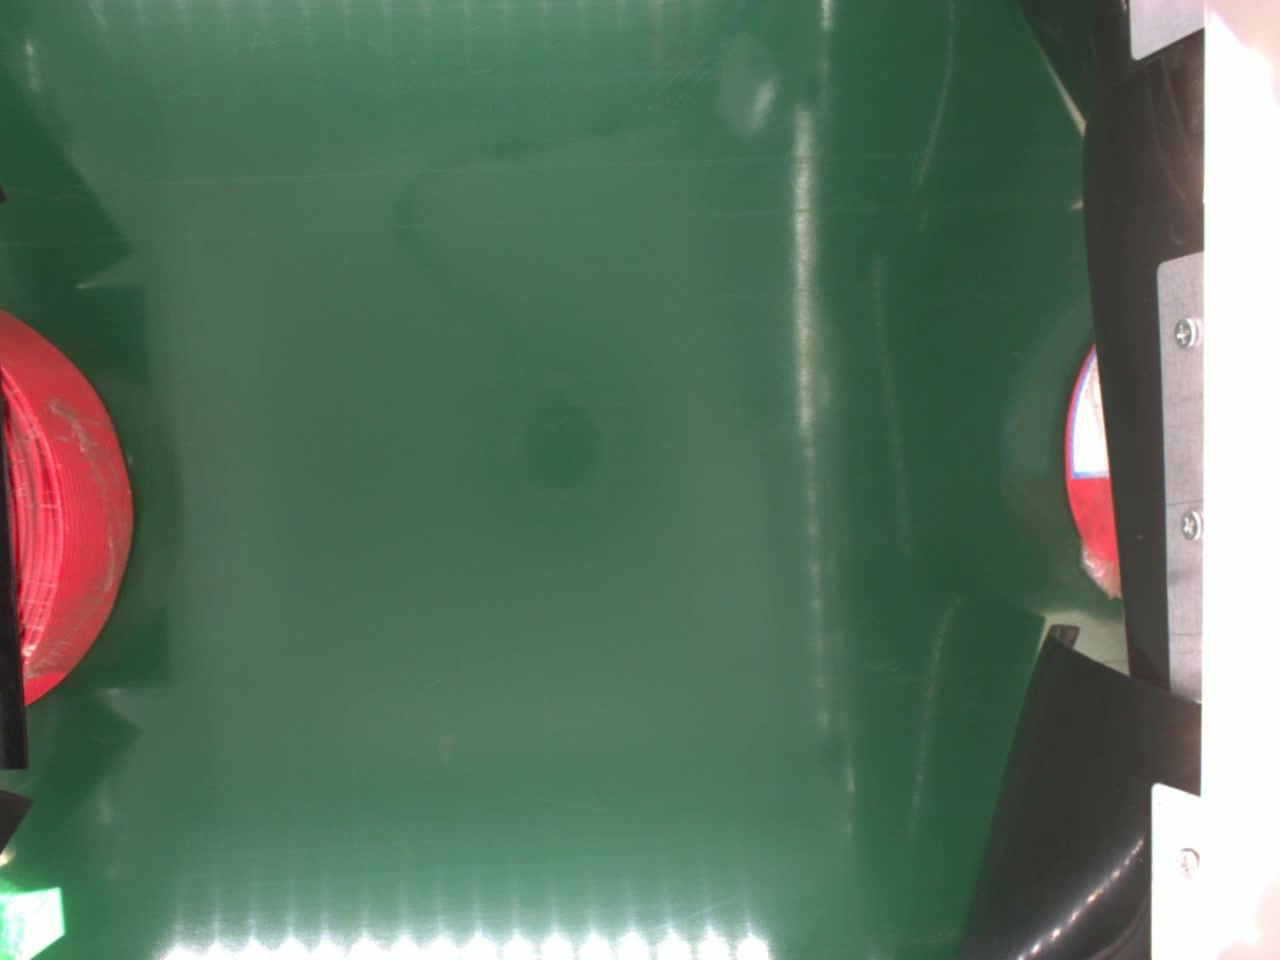red: (0, 305, 131, 704)
